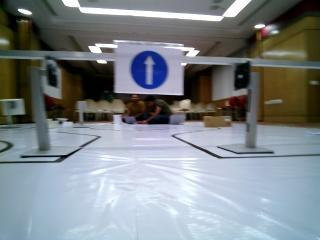straight: (116, 41, 181, 96)
